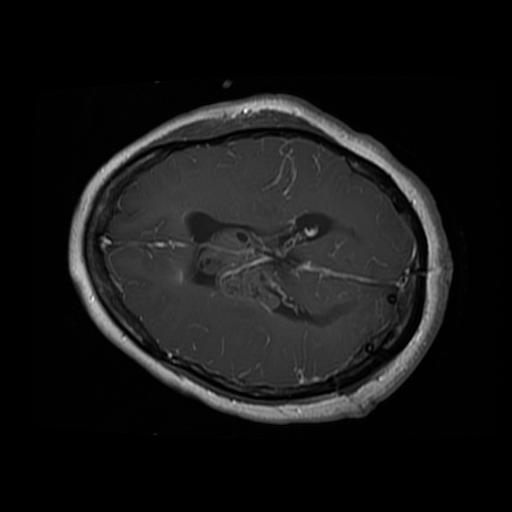glioma: (196, 228, 309, 314)
